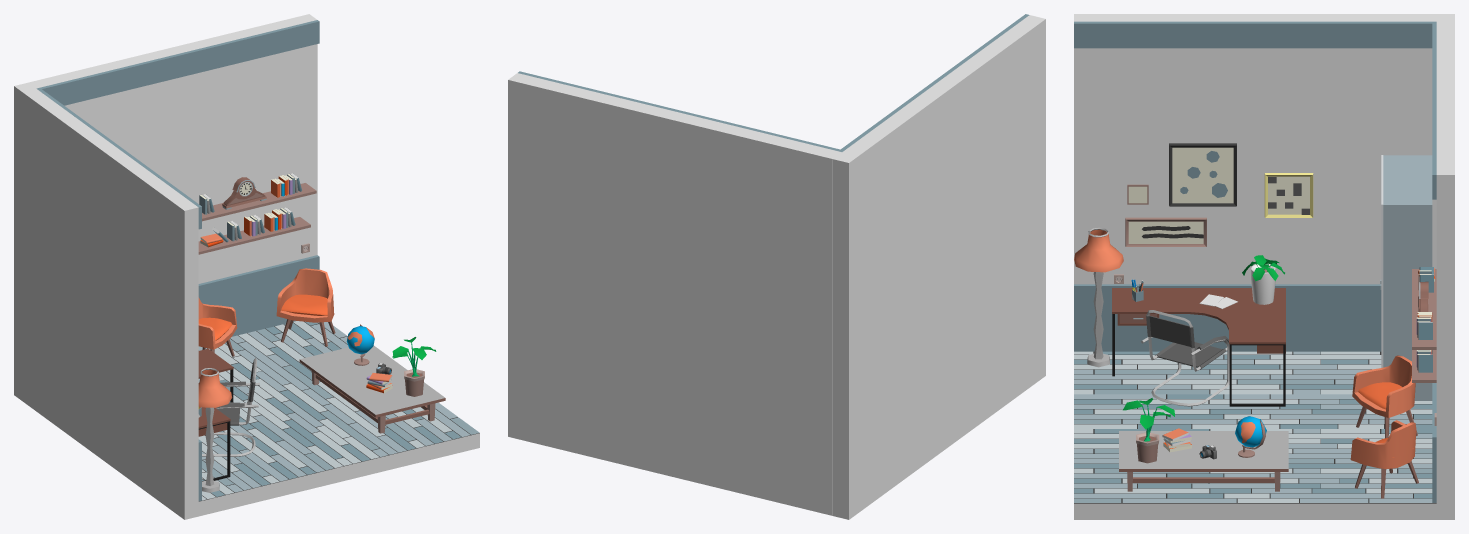
File: room_9.glb
The picture shows the model from 3 angles, left to right: view 1: azimuth 30°, elevation 25°; view 2: azimuth 150°, elevation 25°; view 3: azimuth 270°, elevation 25°; orthographic projection. The views are drawn at different scales.
Visible parts, largest first — view 1: Walls_006.009, Walls_006.008, floor_002.001, Walls_011.004, Walls_111.003, coffee_table_019.001, Walls_111.005, lounge_chair_013.001, lamp_005.002, lounge_chair_013.002, office_table_031.001, kitchen_chair_015.001 (+8 smaller); view 2: Walls_006.008, Walls_006.009, Walls_111.003, Walls_111.004; view 3: Walls_006.009, floor_002.001, Walls_011.004, Walls_111.006, Walls_111.004, picture_034.002, Walls_006.008, closet_011.001, office_table_031.001, coffee_table_019.001, kitchen_chair_015.001, lounge_chair_013.002 (+11 smaller).
Boxes of the visible parts, x1,y1,x2,y2 form: Walls_006.009: [14, 82, 198, 519]; Walls_006.008: [28, 14, 317, 283]; floor_002.001: [198, 321, 479, 500]; Walls_011.004: [198, 321, 479, 516]; Walls_111.003: [36, 20, 319, 105]; coffee_table_019.001: [299, 345, 445, 433]; Walls_111.005: [198, 255, 319, 336]; lounge_chair_013.001: [276, 268, 335, 346]; lamp_005.002: [198, 368, 232, 492]; lounge_chair_013.002: [198, 297, 237, 356]; office_table_031.001: [198, 348, 233, 481]; kitchen_chair_015.001: [202, 358, 259, 456]; Walls_006.008: [508, 73, 841, 515]; Walls_006.009: [833, 15, 1045, 519]; Walls_111.003: [518, 71, 844, 151]; Walls_111.004: [841, 14, 1029, 150]; Walls_006.009: [1074, 14, 1454, 284]; floor_002.001: [1074, 351, 1432, 502]; Walls_011.004: [1074, 351, 1436, 519]; Walls_111.006: [1074, 284, 1381, 351]; Walls_111.004: [1074, 21, 1432, 48]; picture_034.002: [1125, 143, 1313, 246]; Walls_006.008: [1436, 21, 1454, 519]; closet_011.001: [1380, 155, 1432, 400]; office_table_031.001: [1112, 288, 1285, 406]; coffee_table_019.001: [1119, 431, 1288, 491]; kitchen_chair_015.001: [1141, 310, 1229, 406]; lounge_chair_013.002: [1352, 355, 1417, 438].
Bounding box in the file's own units: 4.2 × 4.2 × 4.2.
Materials: 1 (1 with a texture image).
